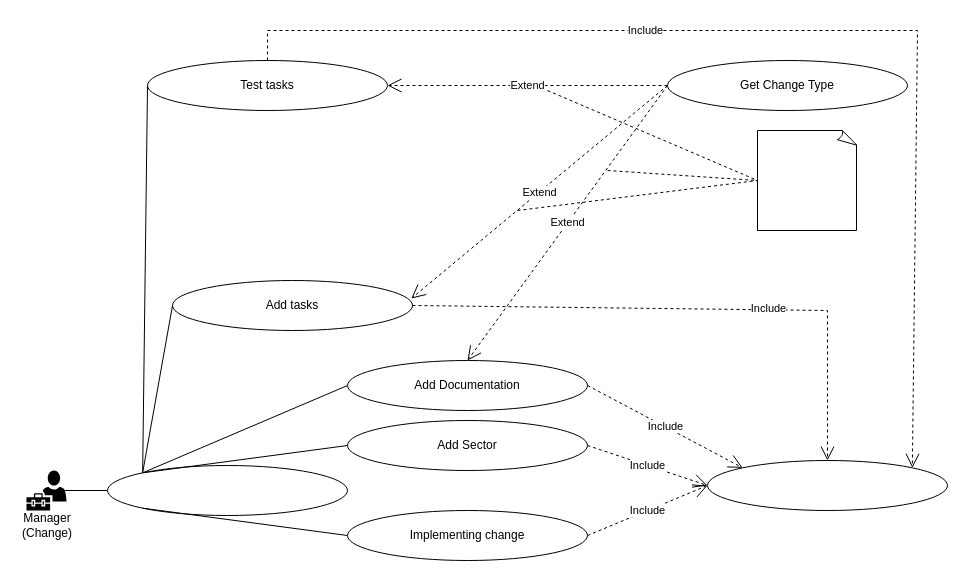
Image size: 965x578. Some labels were removed from this diagram. Each missing label, with the centre of its shape:
"Authenticate" goes at (x=827, y=485).
"condition : {Change selected Software} Extension point: selection" goes at (x=807, y=180).
"Manage changes" goes at (x=227, y=490).
